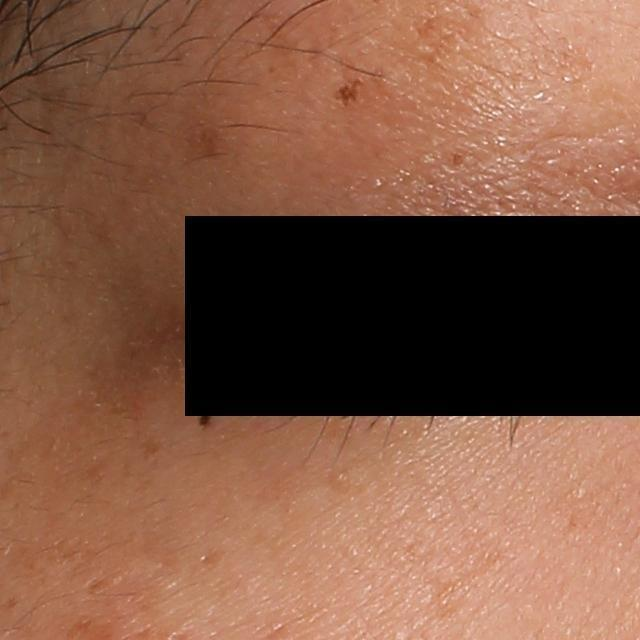nevus: (332, 75, 365, 112), (196, 409, 218, 432)
